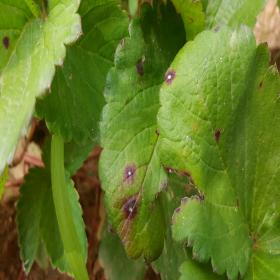Leaf Spot: (155, 23, 279, 279), (96, 0, 188, 264)
